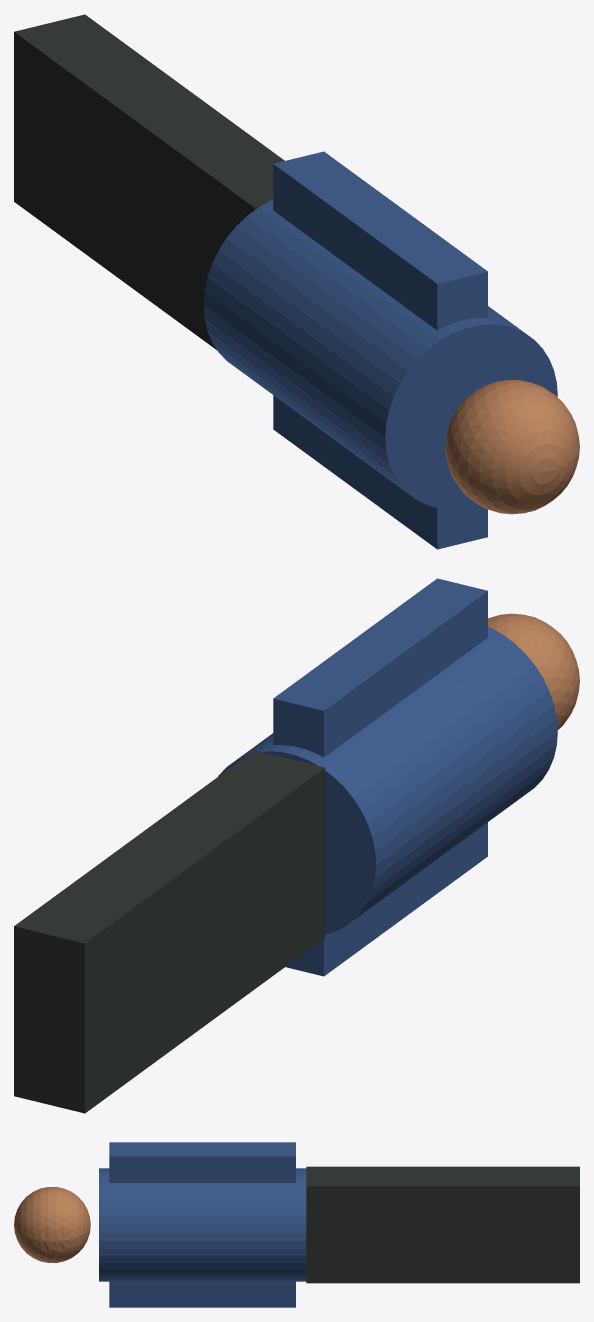
Rendered from loader_link.obj.
3 views of the same model, one above another, from view 1: azimuth 30°, elevation 25°; view 2: azimuth 150°, elevation 25°; view 3: azimuth 270°, elevation 25° (orthographic). The views are drawn at different scales.
Parts seen in each view (by area): view 1: legs_0, torso_1, arms_2, head_3; view 2: legs_0, torso_1, arms_2, head_3; view 3: legs_0, torso_1, arms_2, head_3.
Boxes of the visible parts, x1=… form: legs_0: x1=14, y1=14, x2=284, y2=349; torso_1: x1=203, y1=200, x2=557, y2=509; arms_2: x1=273, y1=151, x2=487, y2=549; head_3: x1=445, y1=380, x2=579, y2=514; legs_0: x1=14, y1=750, x2=325, y2=1113; torso_1: x1=218, y1=626, x2=557, y2=934; arms_2: x1=273, y1=578, x2=487, y2=976; head_3: x1=488, y1=613, x2=579, y2=729; legs_0: x1=306, y1=1166, x2=579, y2=1283; torso_1: x1=99, y1=1168, x2=306, y2=1281; arms_2: x1=109, y1=1142, x2=295, y2=1307; head_3: x1=14, y1=1186, x2=90, y2=1263.
Bounding box in the file's own units: 0.34 × 0.5 × 1.7.
